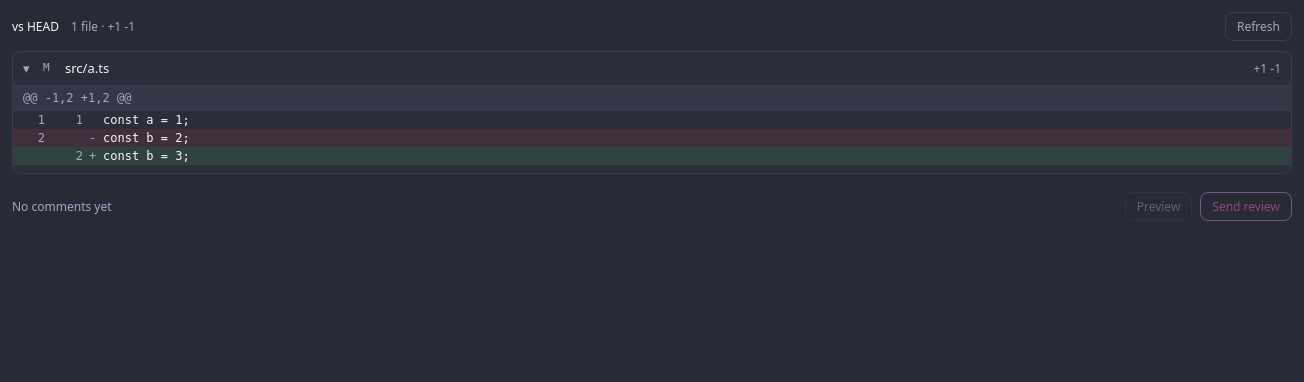
ReviewPanel Send review › reports a preview only result without clearing comments
Expected: the text "vs HEAD" is shown, [12,18,59,35]
Click the button with aria-label "Comment on line 2".
click(146, 156)  # box [13,147,1291,165]
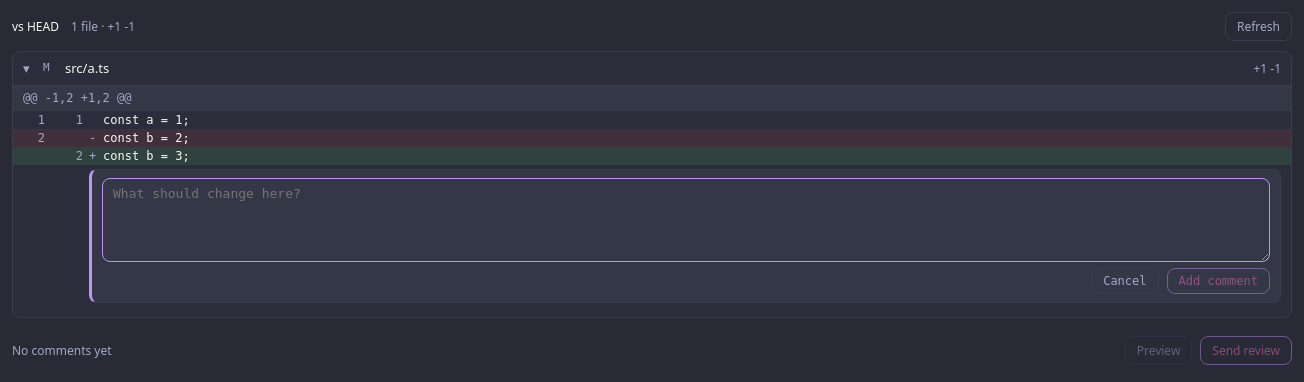
Type "fix it" into the text box named "Comment".
click(686, 220); type("fix it")  # box [102,178,1270,262]
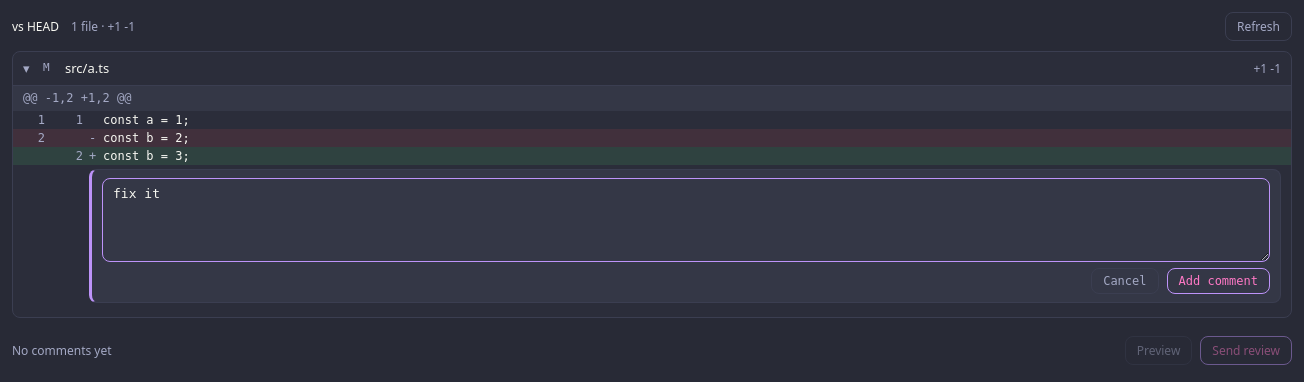
Click the button "Add comment".
click(1218, 281)  # box [1166,268,1270,294]
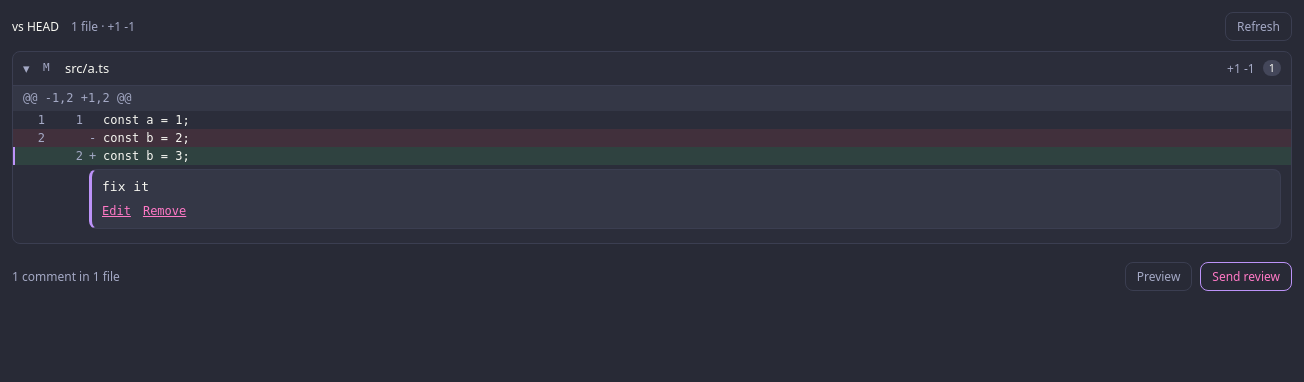
Click the button "Send review".
click(1246, 277)  # box [1200,262,1292,292]
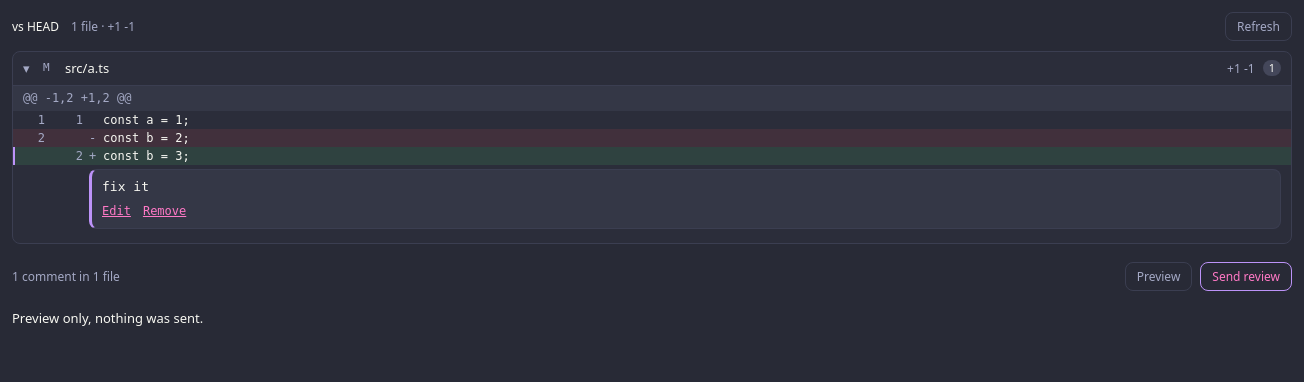
Now the text "1 comment in 1 file" is shown, box [12,268,120,286]
Now the message reads "Preview only, nothing was sent.", box [12,310,203,328]
